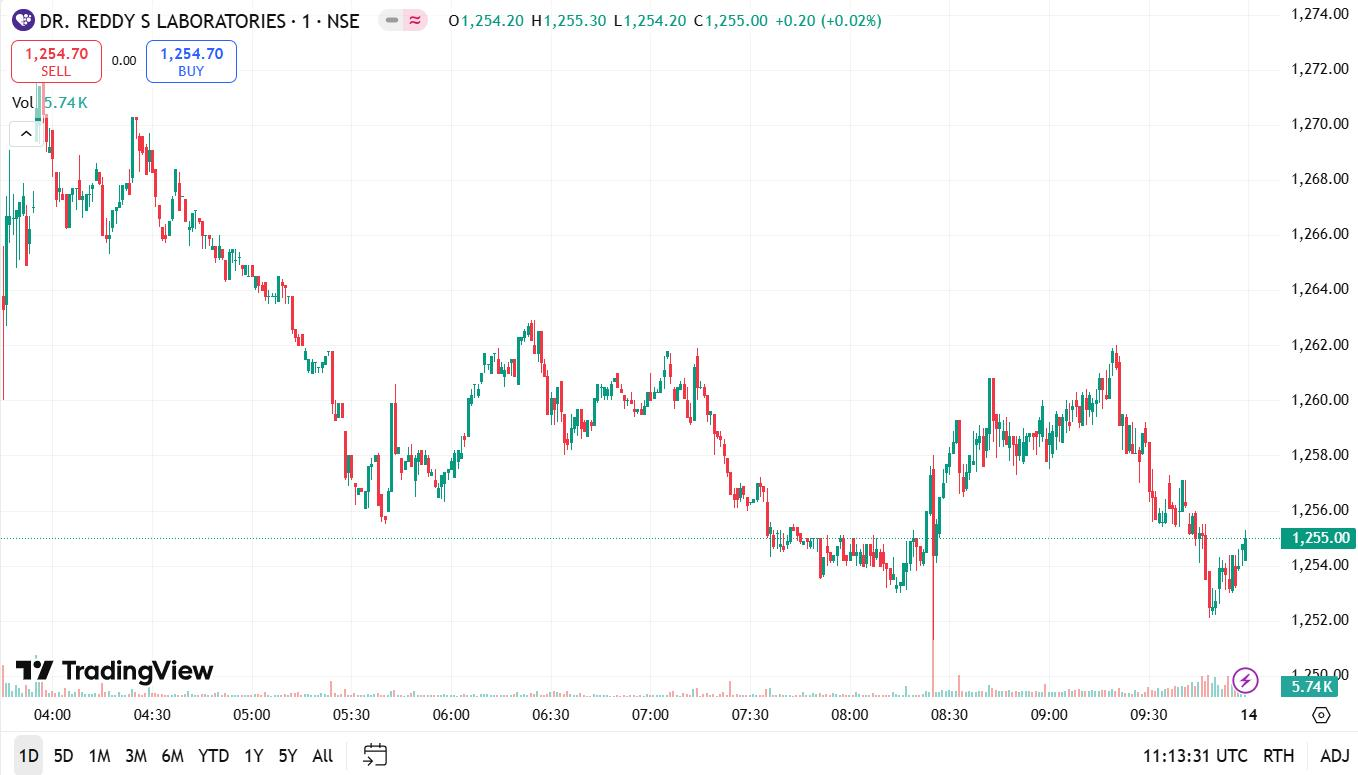Downtrend: (684, 316, 747, 525), (321, 302, 366, 519), (278, 296, 331, 415), (134, 99, 172, 255), (133, 116, 157, 202), (37, 98, 56, 162)
Sideways: (963, 350, 1111, 486), (557, 334, 674, 460)
Uptrend: (424, 297, 492, 516), (445, 318, 527, 458), (923, 415, 964, 580)
